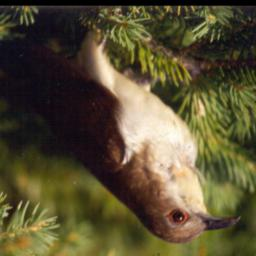Cuckoo: (0, 26, 242, 245)
